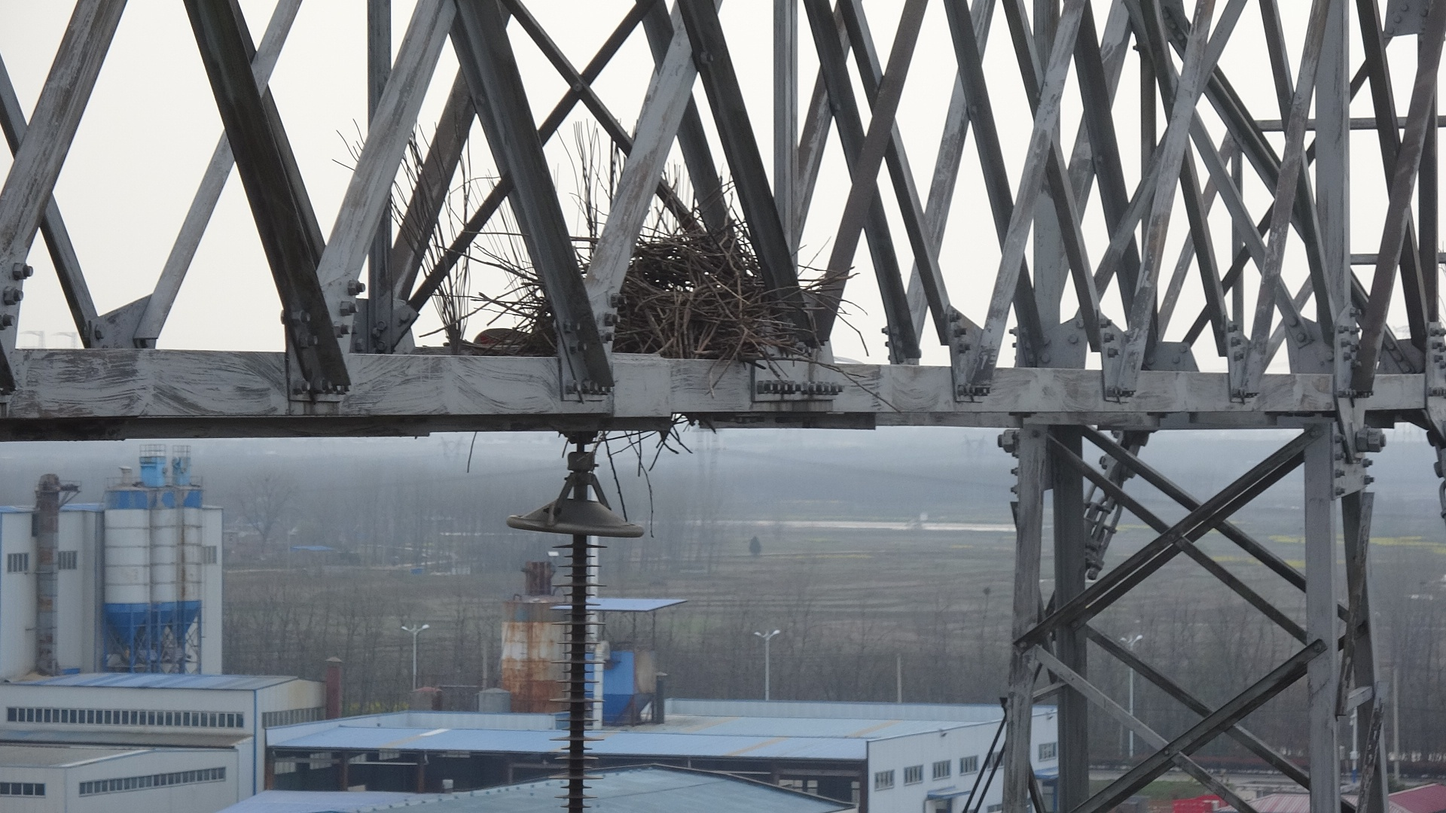insulator: (544, 537, 611, 813)
